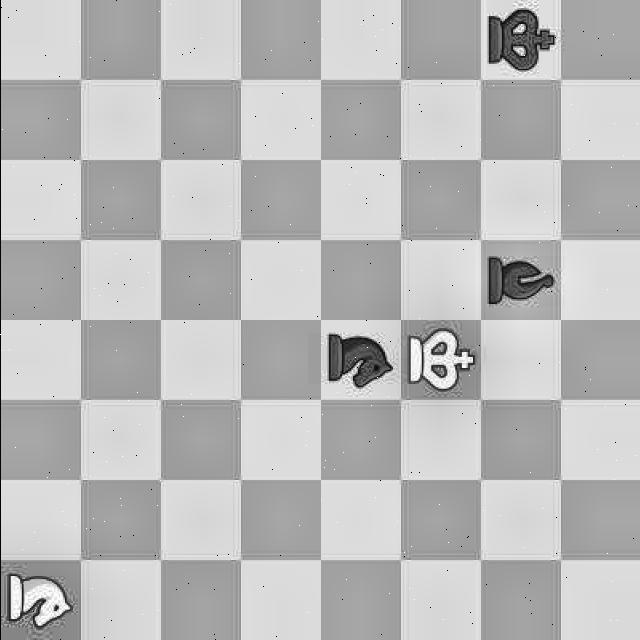Black Knight: (315, 318, 400, 398)
black bishop: (482, 246, 566, 318)
black king: (475, 0, 565, 80)
white king: (401, 321, 478, 398)
whiteknight: (0, 564, 80, 640)
